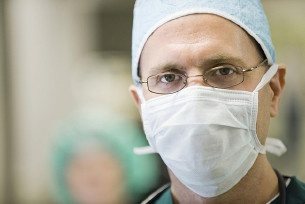Mask: (131, 50, 272, 191)
